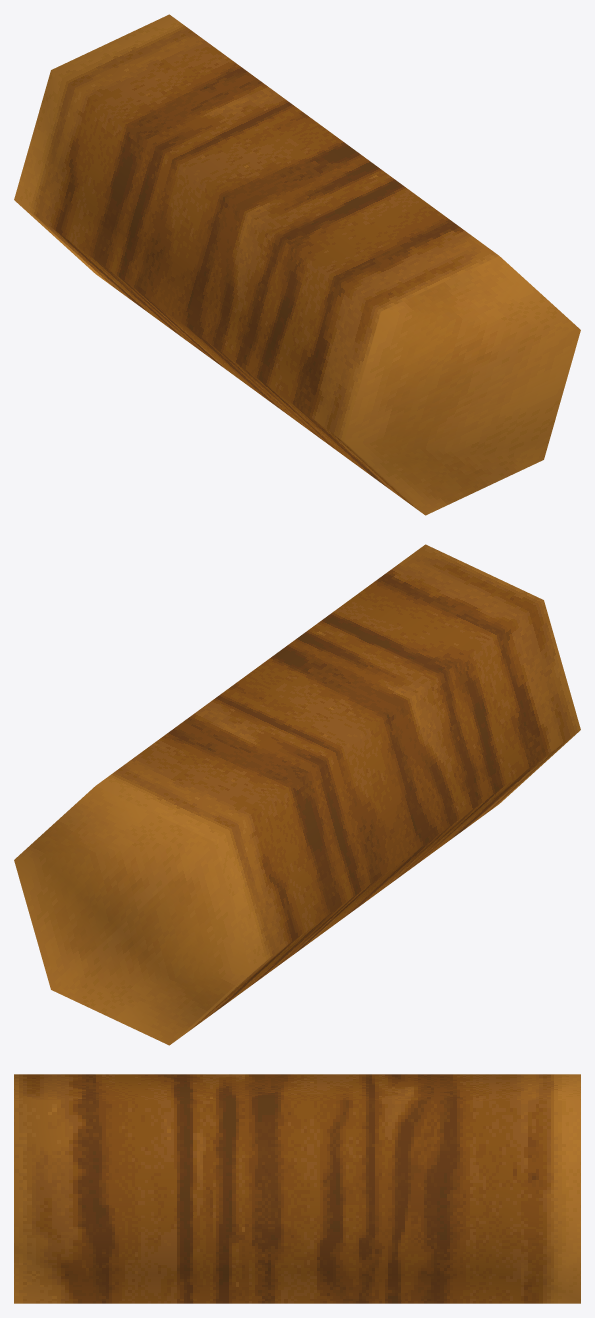
Rendered from SM_AP_Pillar_9m_0.glb.
3 renders of one model, top to bottom at view 1: azimuth 30°, elevation 25°; view 2: azimuth 150°, elevation 25°; view 3: azimuth 270°, elevation 25°, orthographic. The views are drawn at different scales.
Parts seen in each view (by area): view 1: SM_AP_Pillar_9m_0; view 2: SM_AP_Pillar_9m_0; view 3: SM_AP_Pillar_9m_0.
Part boxes in pixels (x1=…): SM_AP_Pillar_9m_0: x1=14, y1=14, x2=580, y2=515; SM_AP_Pillar_9m_0: x1=14, y1=544, x2=580, y2=1045; SM_AP_Pillar_9m_0: x1=14, y1=1074, x2=580, y2=1303.
Bounding box in the file's own units: 9.04 × 8.81 × 21.82.
1 material, 1 textured.
